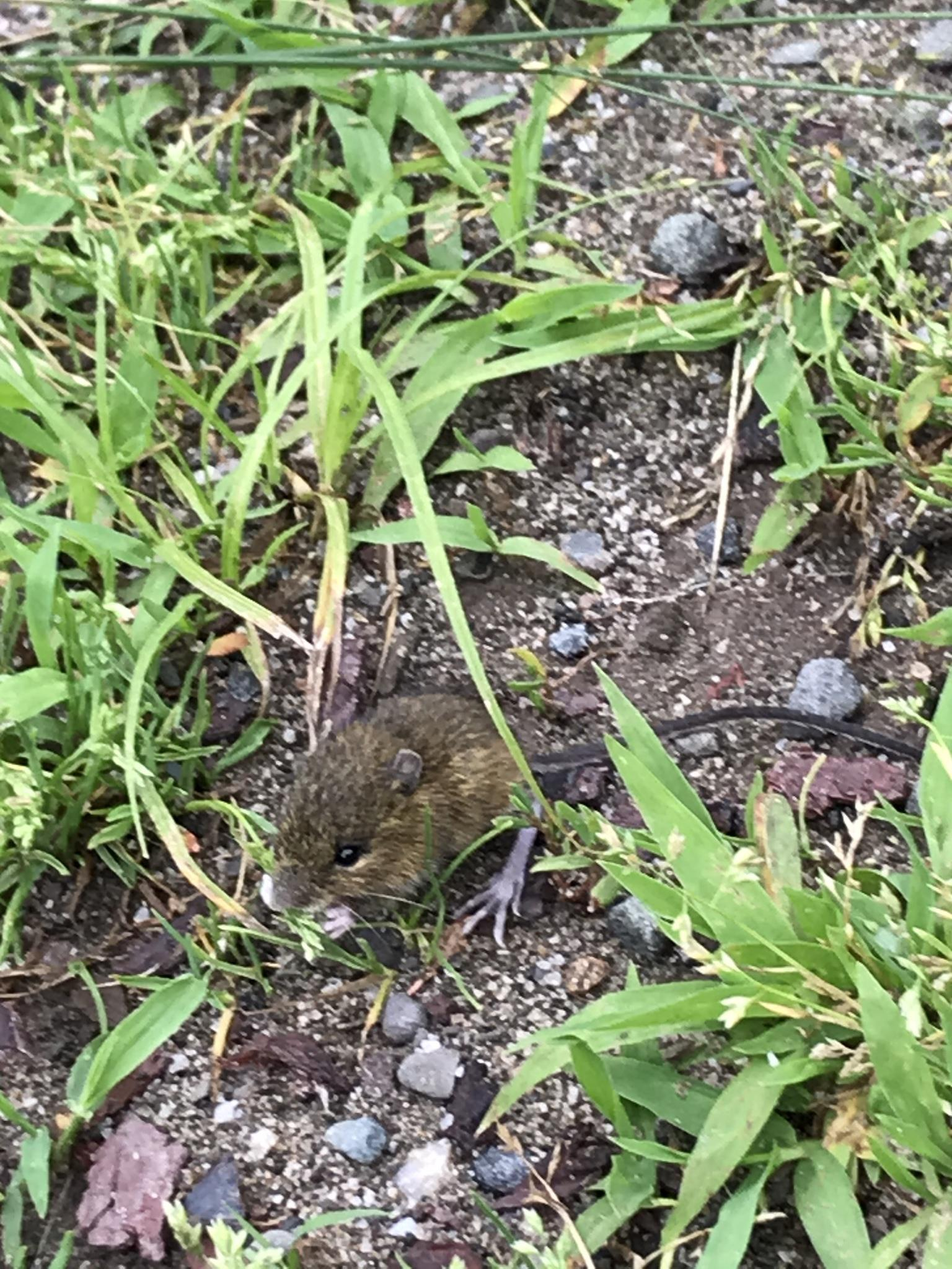rat: (271, 697, 923, 906)
